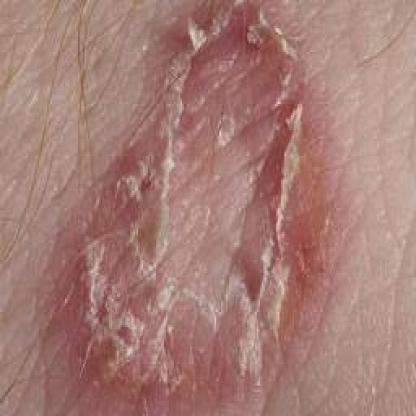Ringworm: (40, 0, 352, 412)
